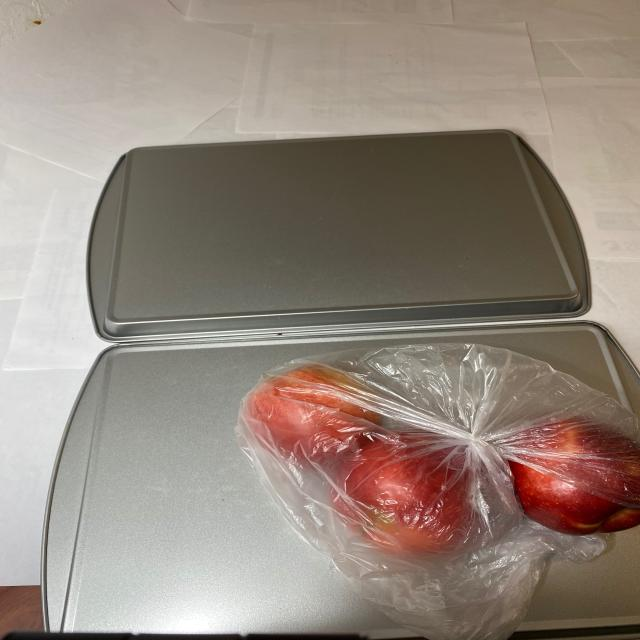apple: (238, 362, 636, 580)
